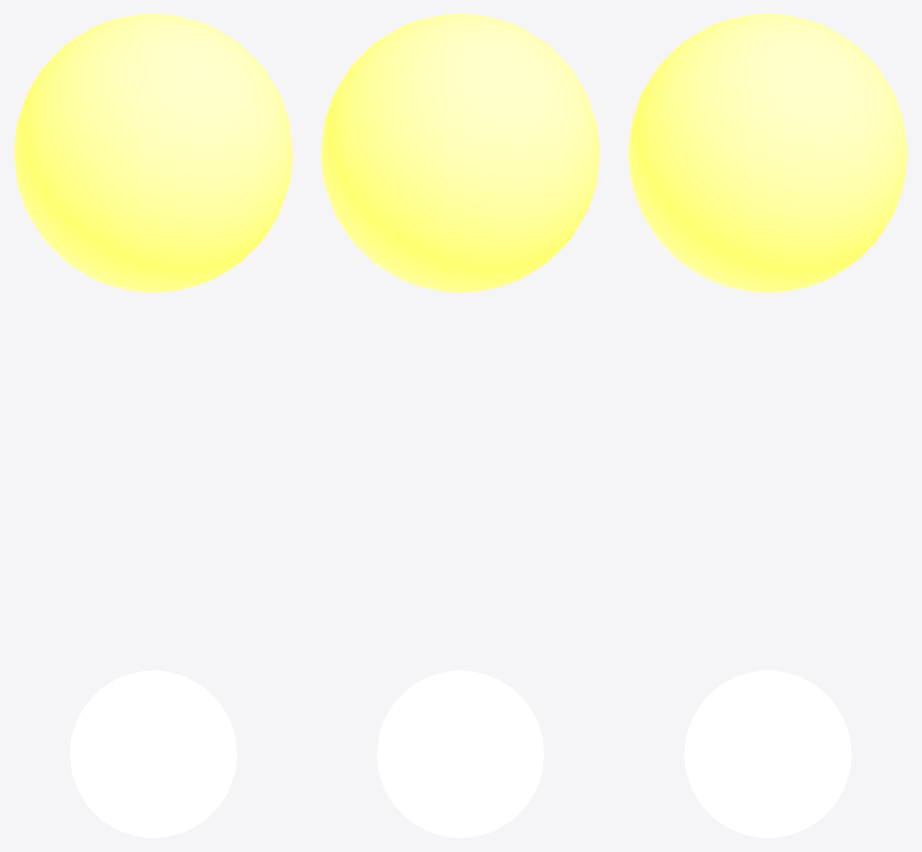
The model's file is sun_and_moon.glb.
3 views of the same model, side by side, from view 1: azimuth 30°, elevation 25°; view 2: azimuth 150°, elevation 25°; view 3: azimuth 270°, elevation 25° (orthographic).
Parts seen in each view (by area): view 1: Sphere; view 2: Sphere; view 3: Sphere.
Boxes of the visible parts, x1=… form: Sphere: x1=14, y1=14, x2=292, y2=837; Sphere: x1=321, y1=14, x2=599, y2=837; Sphere: x1=628, y1=14, x2=907, y2=837.
Bounding box in the file's own units: 2 × 6.34 × 2.
